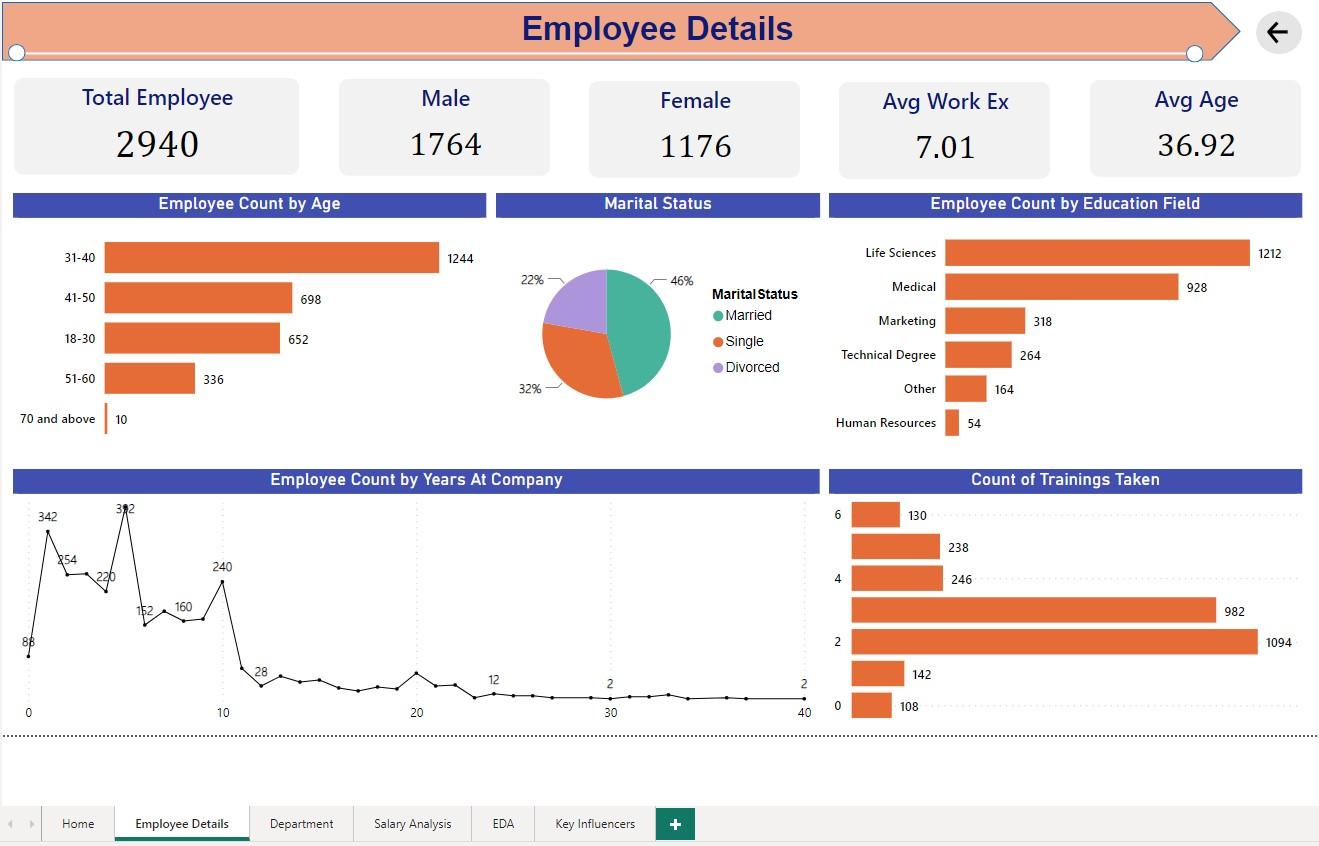

This screenshot's page, from the dashboard's own definition file:
{"tool":"powerbi","page":{"name":"Employee Details","canvas":[1280,720],"ordinal":1},"visuals":[{"type":"card","title":"Total Employee","fields":{"Values":["HR_Employee_Attrition_Data.Total_count"]},"box":[10.7,80.7,278.9,96.2],"z":0},{"type":"card","title":"Male","fields":{"Values":["CountNonNull(HR_Employee_Attrition_Data.Gender)"]},"box":[326.1,81.7,207,96.2],"z":1000},{"type":"card","title":"Female","fields":{"Values":["CountNonNull(HR_Employee_Attrition_Data.Gender)"]},"box":[569.5,83.7,207,96],"z":2000},{"type":"card","title":"Avg Age","fields":{"Values":["Avg(HR_Employee_Attrition_Data.Age)"]},"box":[1056.5,82.7,207,96.2],"z":3000},{"type":"card","title":"Avg Work Ex","fields":{"Values":["Avg(HR_Employee_Attrition_Data.YearsAtCompany)"]},"box":[813,84.6,207,96.2],"z":4000},{"type":"pieChart","title":"Marital Status ","fields":{"Category":["HR_Employee_Attrition_Data.MaritalStatus"],"Y":["CountNonNull(HR_Employee_Attrition_Data.MaritalStatus)"]},"box":[480.1,193.4,314.9,254.6],"z":5000},{"type":"lineChart","title":"Employee Count by Years At Company","fields":{"Category":["HR_Employee_Attrition_Data.YearsAtCompany"],"Y":["CountNonNull(HR_Employee_Attrition_Data.YearsAtCompany)"]},"box":[10.7,461.7,784.3,254.6],"z":6000},{"type":"barChart","title":"Employee Count by Age ","fields":{"Category":["HR_Employee_Attrition_Data.Age Bin"],"Y":["CountNonNull(HR_Employee_Attrition_Data.Age Bin)"]},"box":[10.7,193.4,459.7,255.6],"z":7000},{"type":"barChart","title":"Employee Count by Education Field ","fields":{"Category":["HR_Employee_Attrition_Data.EducationField"],"Y":["CountNonNull(HR_Employee_Attrition_Data.EducationField)"]},"box":[803.8,193.4,459.7,254.6],"z":8000},{"type":"barChart","title":"Count of Trainings Taken ","fields":{"Category":["HR_Employee_Attrition_Data.TrainingTimesLastYear"],"Y":["CountNonNull(HR_Employee_Attrition_Data.TrainingTimesLastYear)"]},"box":[803.8,461.7,460,255],"z":9000},{"type":"shape","box":[0,7.8,1204.2,57.3],"z":10000},{"type":"shape","box":[23.3,41.8,1129.4,32.1],"z":11000},{"type":"textbox","box":[335.3,10.7,603.6,52.5],"z":12000},{"type":"shape","box":[5.8,48.6,17.5,16.5],"z":13000},{"type":"shape","box":[1150.7,49.6,17.5,16.5],"z":14000},{"type":"actionButton","box":[1218.8,16.5,44.7,41.8],"z":15000}]}

Visuals, with their boxes on the page's 1280x720 design canvas (x1, y1, x2, y2). These are canvas units, not pixel positions in the 1319x846 screenshot, which may show the page scaled, cropped or inside an application window:
"Total Employee" card: [11, 81, 290, 177]
"Male" card: [326, 82, 533, 178]
"Female" card: [570, 84, 776, 180]
"Avg Age" card: [1056, 83, 1264, 179]
"Avg Work Ex" card: [813, 85, 1020, 181]
"Marital Status " pieChart: [480, 193, 795, 448]
"Employee Count by Years At Company" lineChart: [11, 462, 795, 716]
"Employee Count by Age " barChart: [11, 193, 470, 449]
"Employee Count by Education Field " barChart: [804, 193, 1264, 448]
"Count of Trainings Taken " barChart: [804, 462, 1264, 717]
shape: [0, 8, 1204, 65]
shape: [23, 42, 1153, 74]
textbox: [335, 11, 939, 63]
shape: [6, 49, 23, 65]
shape: [1151, 50, 1168, 66]
actionButton: [1219, 16, 1264, 58]
